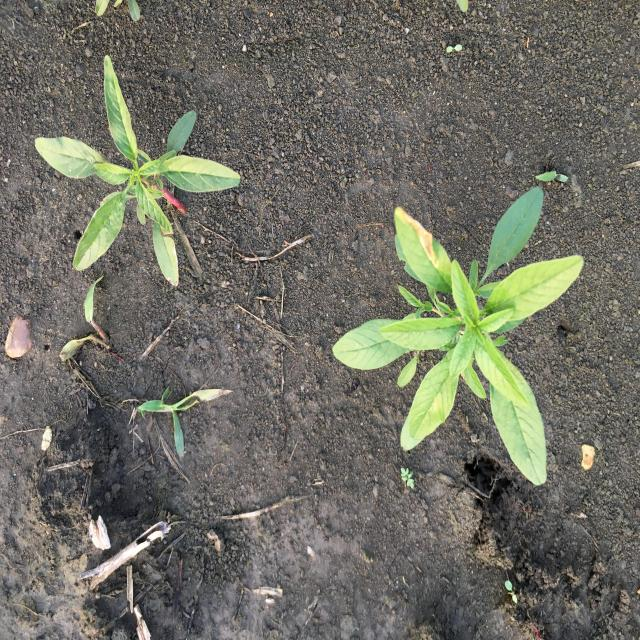Waterhemp: (331, 185, 586, 488), (34, 54, 242, 288)
